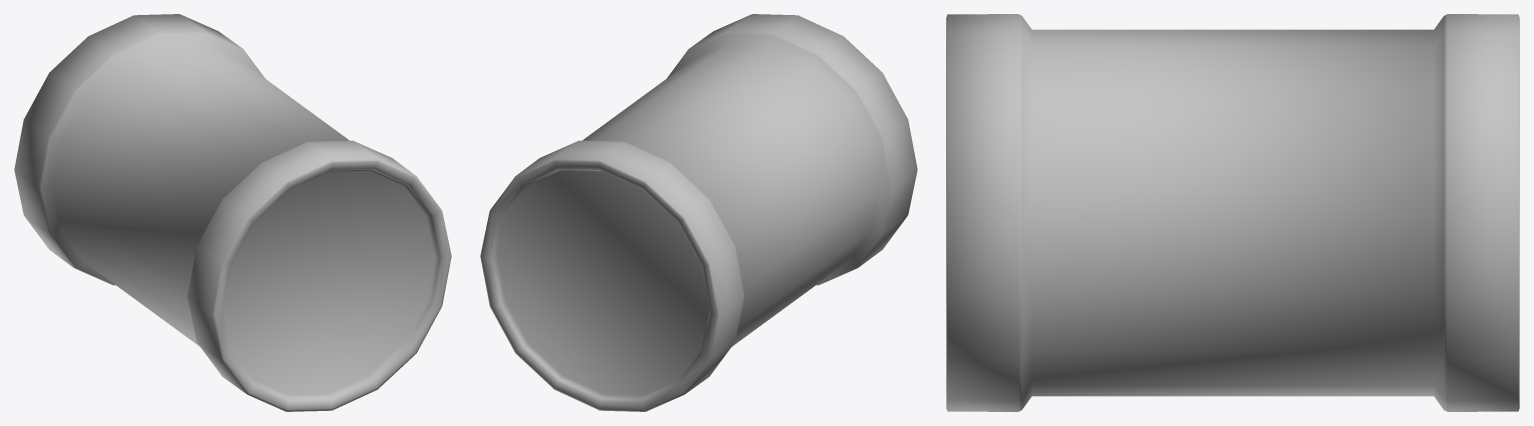
The picture shows the model from 3 angles, left to right: view 1: azimuth 30°, elevation 25°; view 2: azimuth 150°, elevation 25°; view 3: azimuth 270°, elevation 25°; orthographic projection. The views are drawn at different scales.
Visible parts, largest first — view 1: Section.001; view 2: Section.001; view 3: Section.001.
Boxes of the visible parts, left/top/right/bottom form: Section.001: left=14, top=14, right=451, bottom=411; Section.001: left=480, top=14, right=917, bottom=411; Section.001: left=946, top=14, right=1519, bottom=411.
Size of the model in its own units: 3.48 by 3.48 by 4.99.
